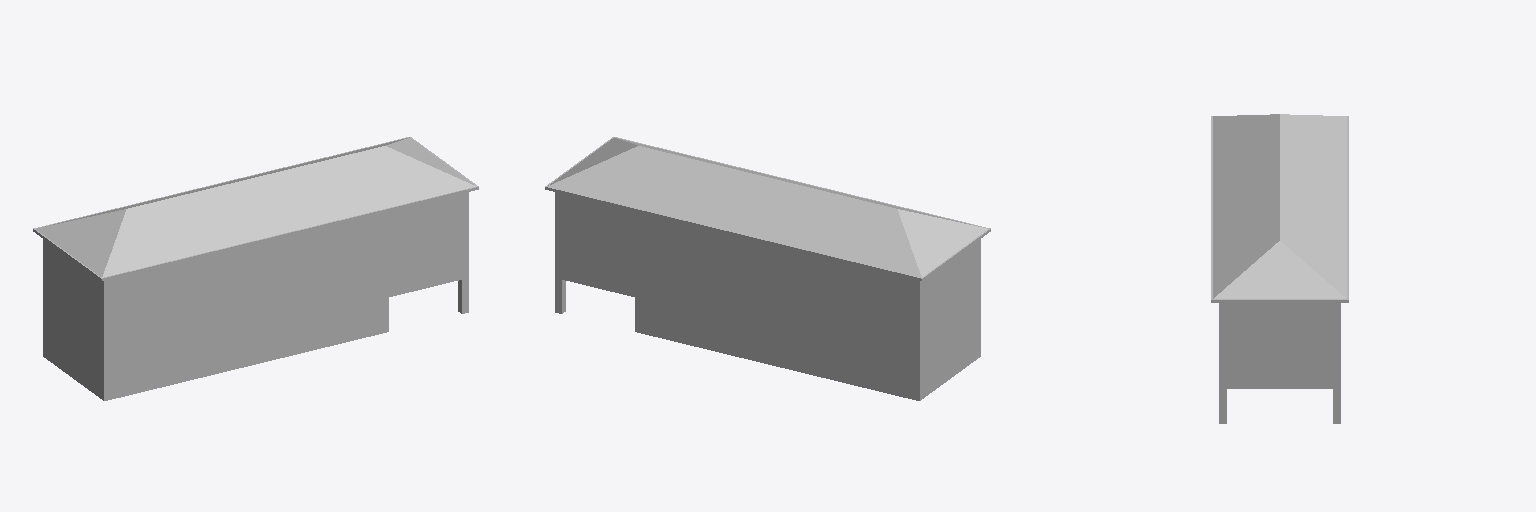
File: apartment.obj
The picture shows the model from 3 angles: view 1: azimuth 30°, elevation 25°; view 2: azimuth 150°, elevation 25°; view 3: azimuth 270°, elevation 25°; orthographic projection.
Visible parts, largest first — view 1: Cube; view 2: Cube; view 3: Cube.
Boxes of the visible parts, x1=… form: Cube: x1=33, y1=137, x2=478, y2=400; Cube: x1=545, y1=137, x2=990, y2=400; Cube: x1=1211, y1=114, x2=1348, y2=423.
Bounding box in the file's own units: 28.6 × 11.4 × 9.